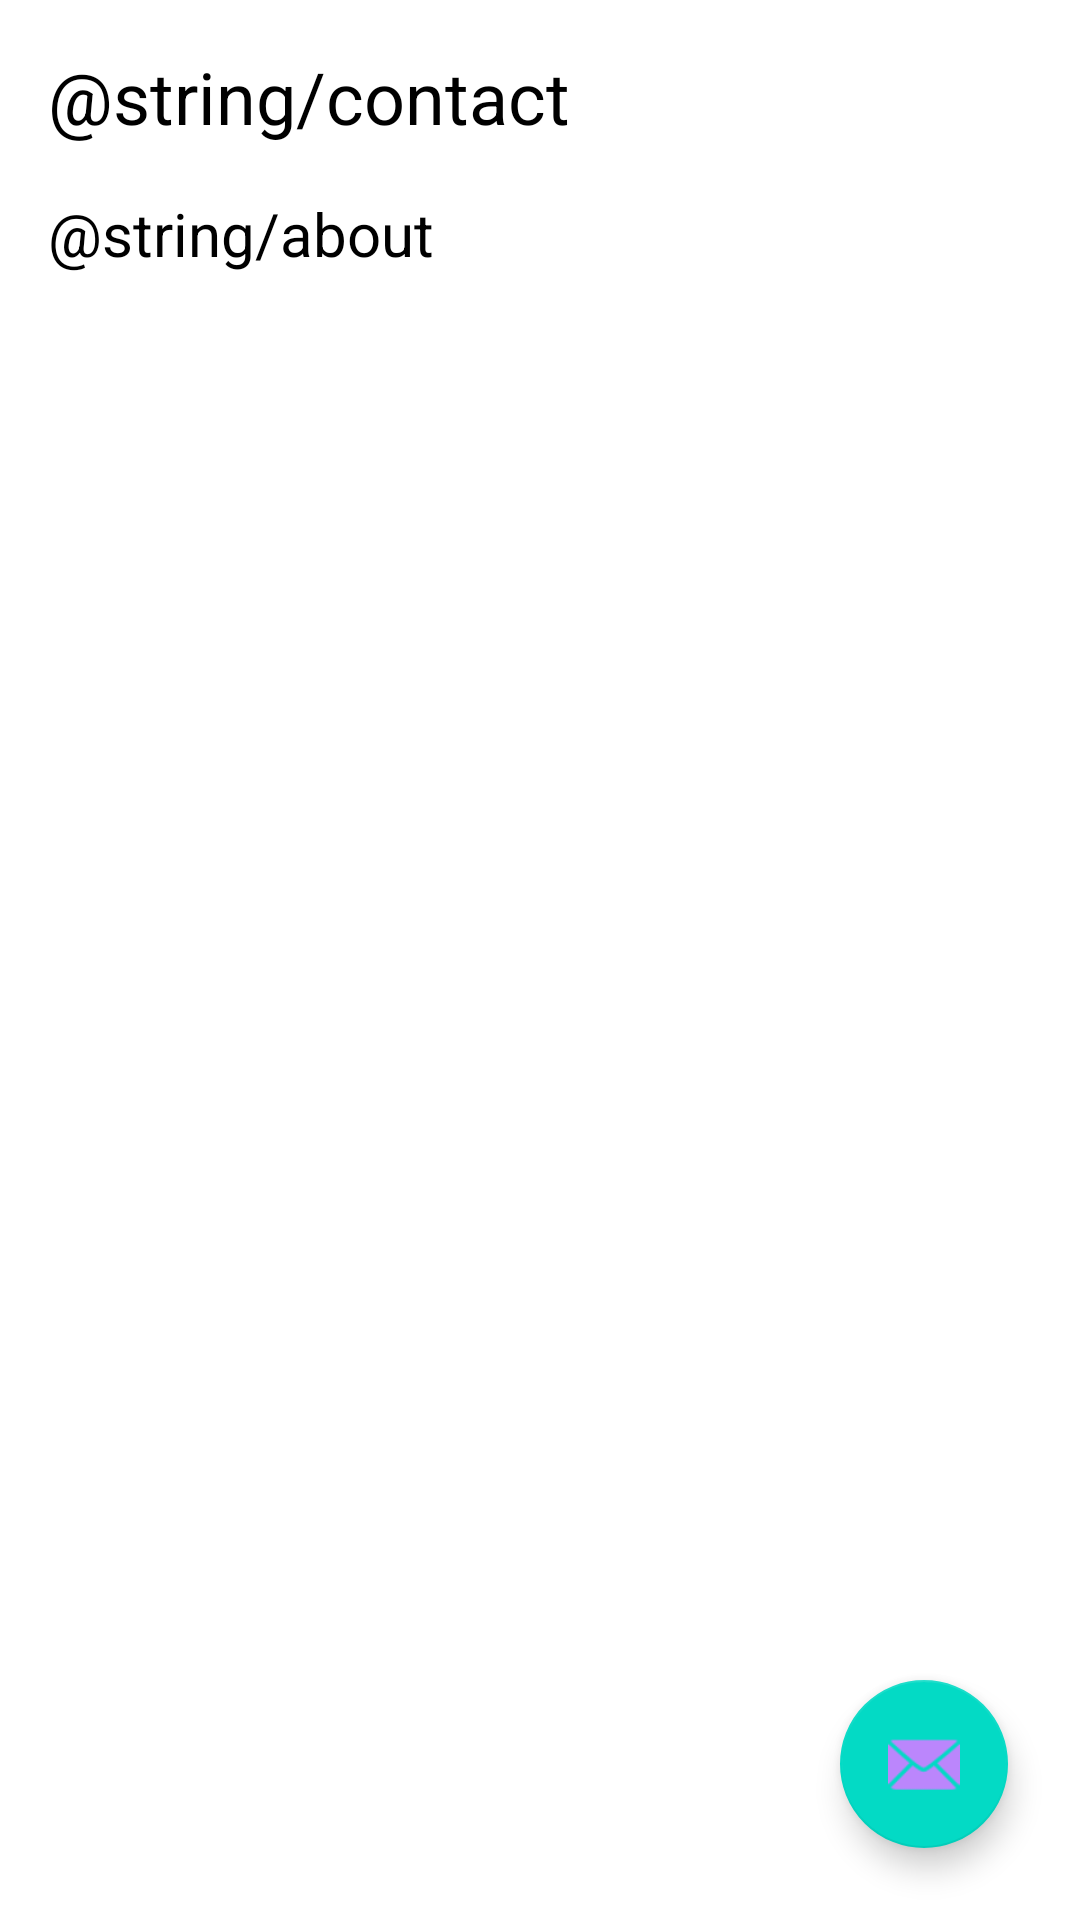

Where icons sit on this 1080px x 1920px app screen, as (x1,y1,x2,y2):
email: (840,1680,1008,1848)
